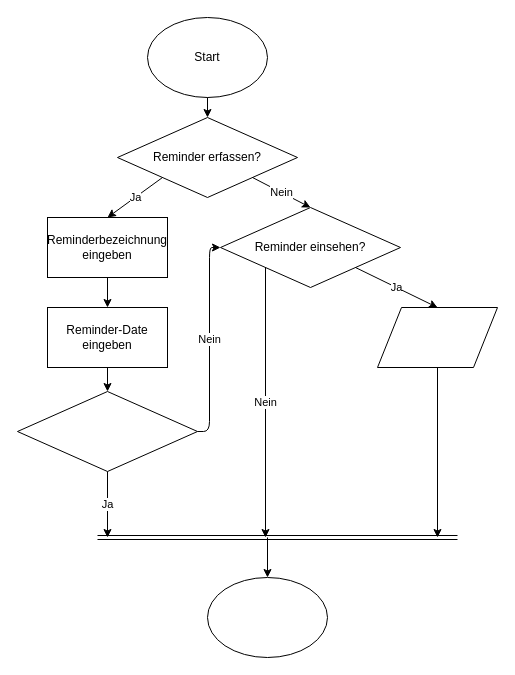
This 515x675 diagram has some shape labels left out. The shapes that lost their labels are listed below. From the top down, each one's box as (x1, y1, x2, y2) in pixels, then its label:
(376, 306, 498, 368): Alle Reminder ausgeben
(16, 390, 198, 472): Reminder speichern
(206, 576, 328, 658): Ende
